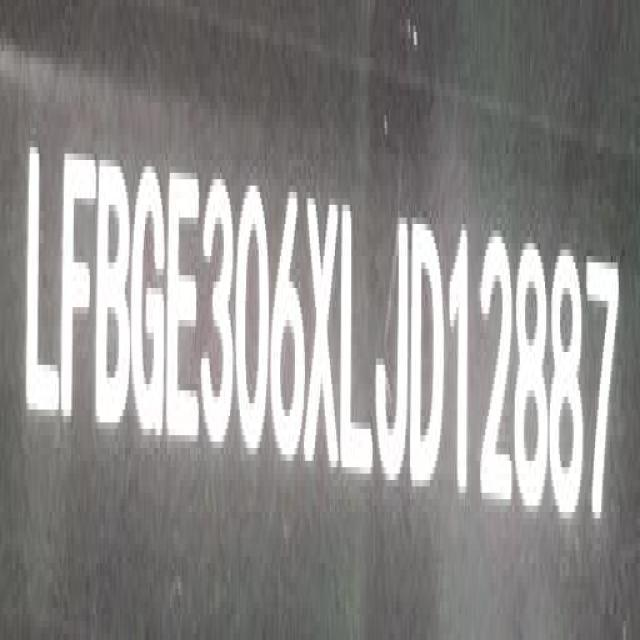0: (235, 170, 269, 462)
1: (451, 215, 474, 507)
2: (479, 220, 514, 512)
3: (202, 168, 237, 454)
6: (271, 179, 306, 469)
7: (587, 242, 621, 525)
8: (514, 230, 550, 513), (548, 248, 584, 526)
B: (96, 153, 134, 442)
D: (409, 206, 448, 512)
E: (168, 162, 204, 452)
F: (61, 144, 97, 436)
G: (133, 155, 169, 444)
J: (376, 211, 412, 493)
L: (21, 131, 64, 427), (343, 201, 374, 487)
X: (306, 191, 342, 479)
